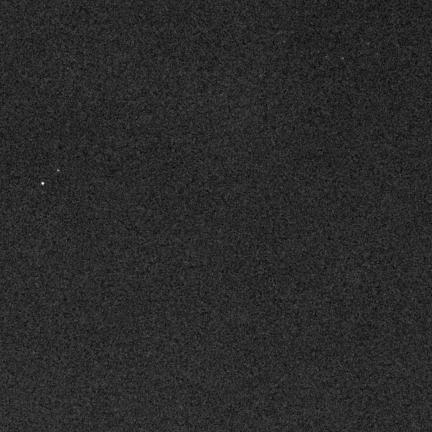blob: (41, 182, 45, 186)
